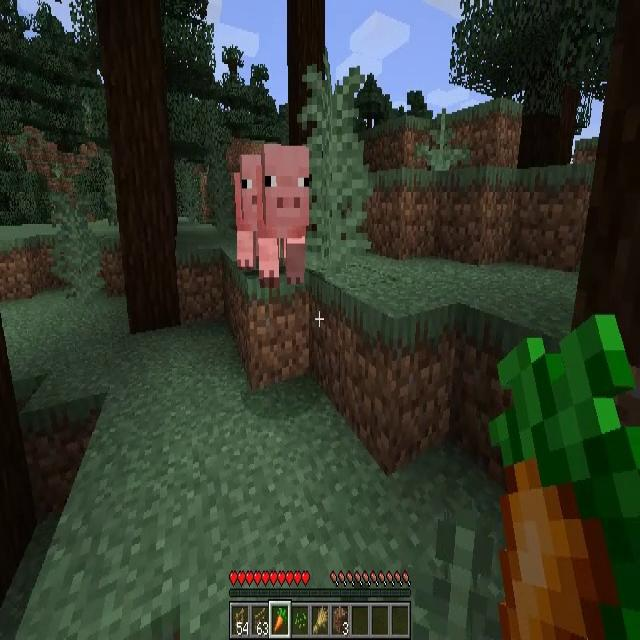pig: (258, 144, 312, 276), (237, 155, 264, 269)
